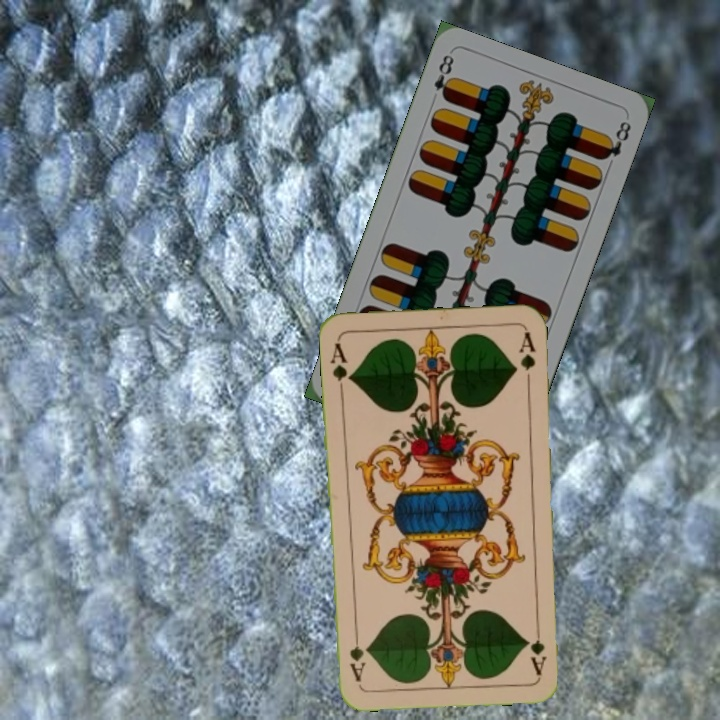E8: (427, 50, 457, 107)
GA: (327, 339, 355, 396), (525, 618, 549, 677)
